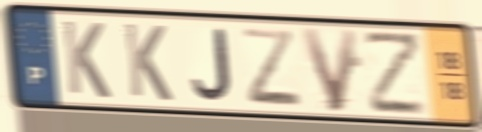J: (189, 26, 235, 104)
K: (58, 17, 113, 102), (120, 20, 175, 105)
V: (297, 26, 362, 116)
Z: (361, 30, 428, 116), (239, 25, 305, 110)
